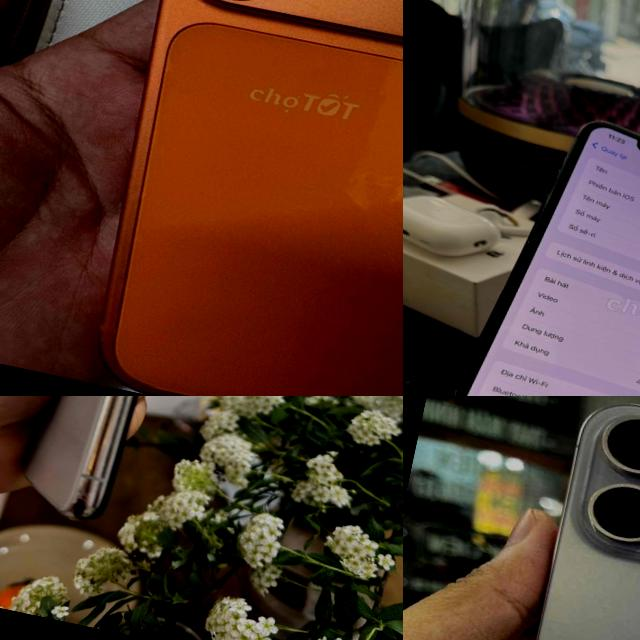gen_11: (456, 124, 640, 396)
gen_15: (450, 396, 640, 640)
gen_17: (57, 0, 403, 396)
gen_x_xs: (16, 396, 230, 535)
